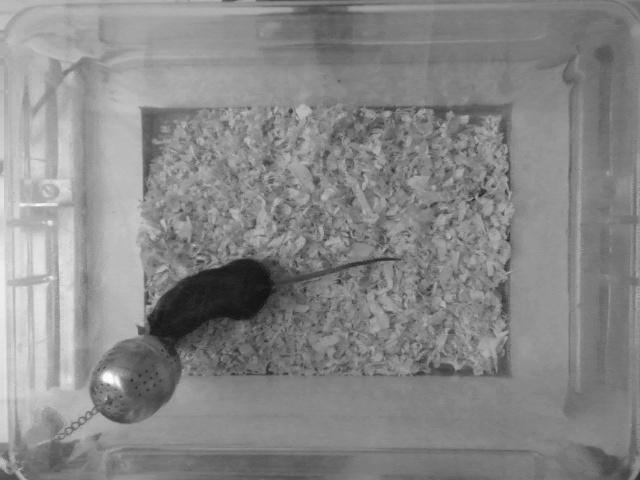mice: (145, 252, 406, 340)
